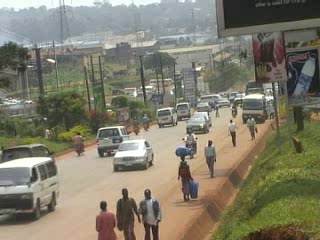Car: (110, 137, 157, 172), (184, 116, 212, 137), (193, 109, 214, 125), (196, 99, 214, 114), (214, 96, 230, 107)
Motorcycle: (180, 136, 200, 161), (70, 137, 87, 159), (131, 118, 140, 135), (142, 117, 150, 134), (228, 104, 237, 119)
